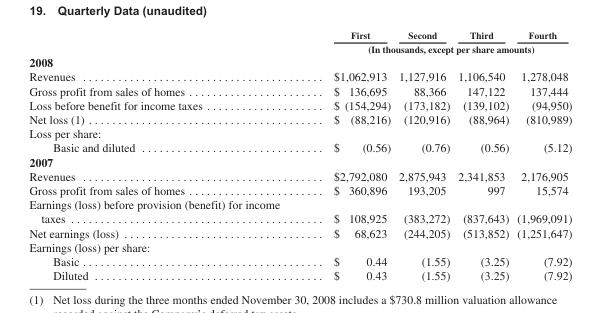table: (28, 29, 571, 281)
table column: (28, 29, 306, 281), (306, 29, 394, 281), (394, 29, 453, 281), (453, 29, 512, 281), (512, 29, 571, 281)
table column header: (28, 29, 571, 54)
table projected row header: (28, 54, 571, 69), (28, 126, 571, 140), (28, 154, 571, 168), (28, 239, 571, 253)
table row: (28, 197, 571, 225), (28, 54, 571, 69), (28, 111, 571, 126), (28, 182, 571, 197), (28, 69, 571, 83), (28, 83, 571, 97), (28, 97, 571, 111), (28, 126, 571, 140), (28, 140, 571, 154), (28, 154, 571, 168), (28, 168, 571, 182), (28, 225, 571, 239), (28, 239, 571, 253), (28, 253, 571, 267), (28, 267, 571, 281), (28, 41, 571, 54), (28, 29, 571, 41)
table spanning cell: (306, 41, 571, 54)
